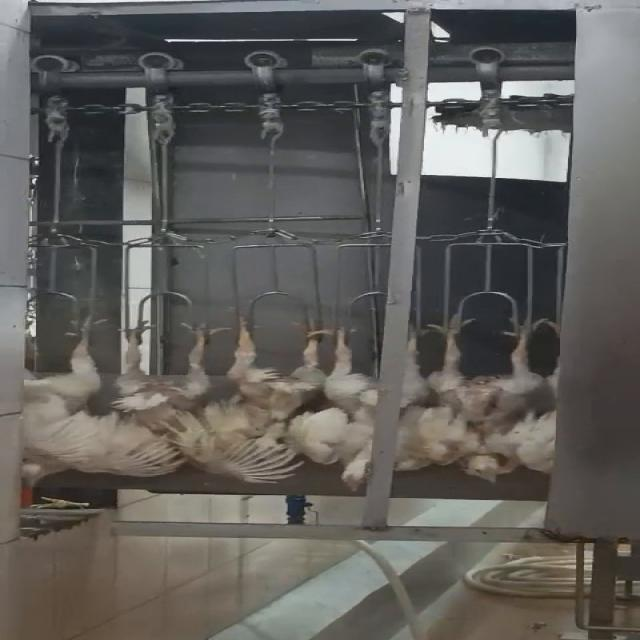chicken: (0, 310, 133, 497), (398, 319, 545, 484), (196, 316, 342, 482), (95, 316, 222, 481), (307, 326, 378, 494)
